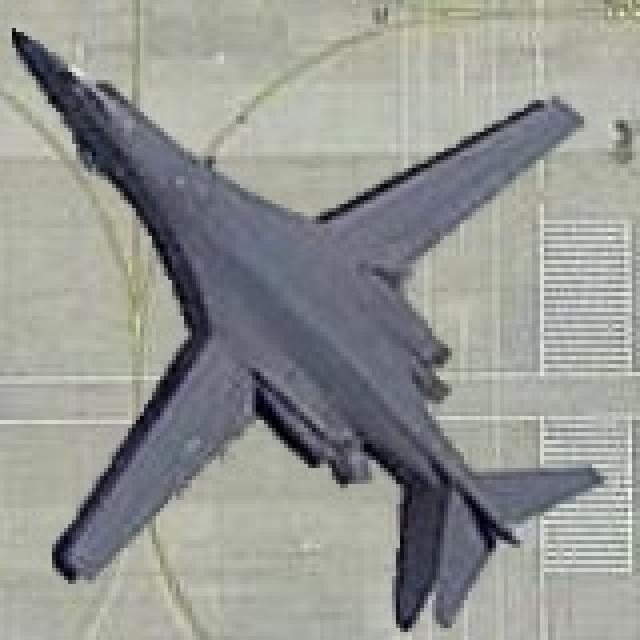B-1_TopDown: (4, 16, 604, 628)
